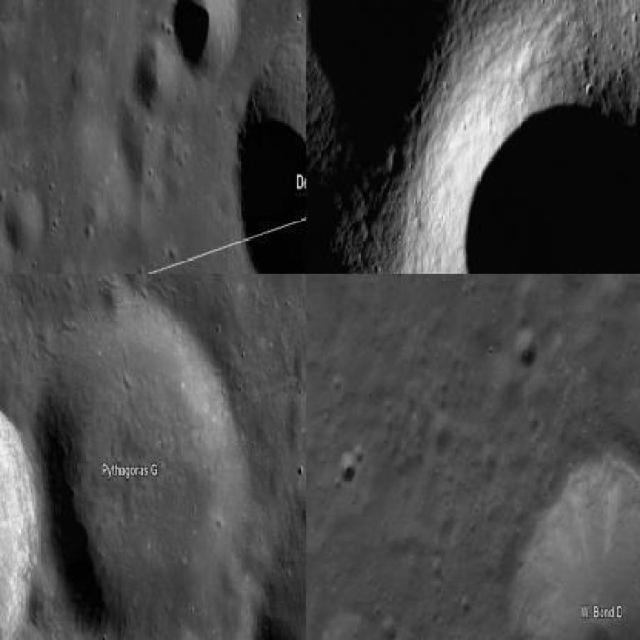crater: (37, 297, 245, 638), (448, 90, 638, 272), (514, 451, 638, 638), (237, 19, 305, 272), (170, 0, 243, 78), (317, 612, 377, 638), (512, 325, 540, 369), (338, 452, 358, 483)
